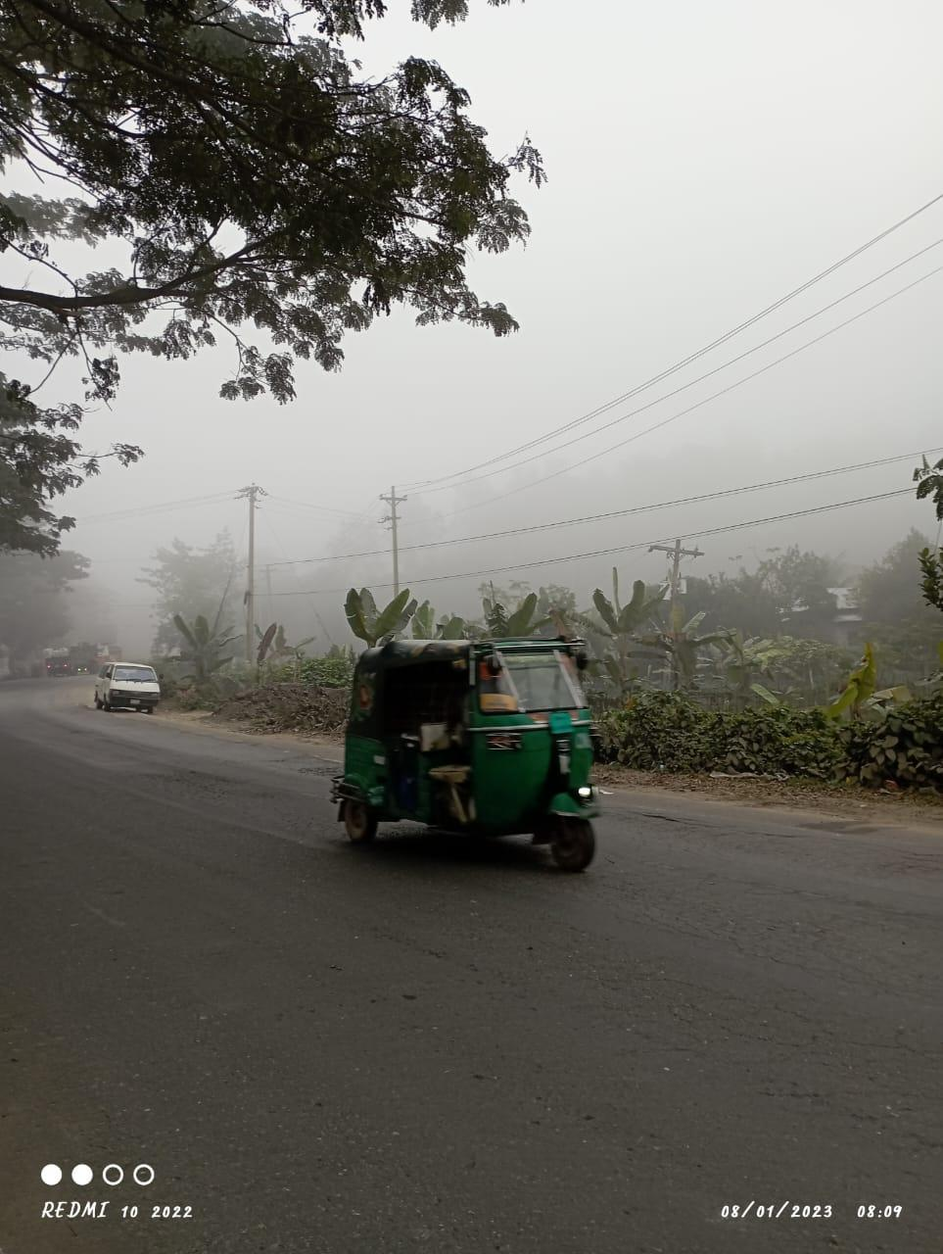Car: (79, 651, 173, 721)
